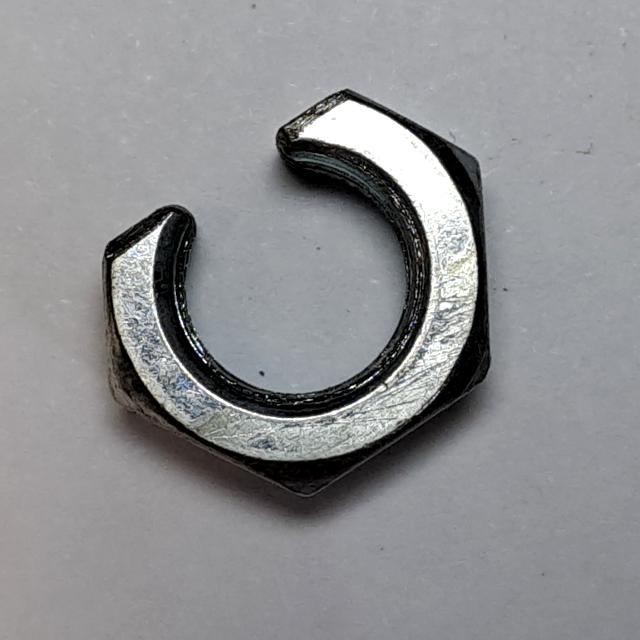Fracture: (87, 72, 507, 514)
